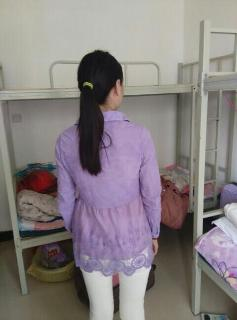long sleeve top: (55, 111, 162, 277)
trousers: (77, 214, 152, 319)
